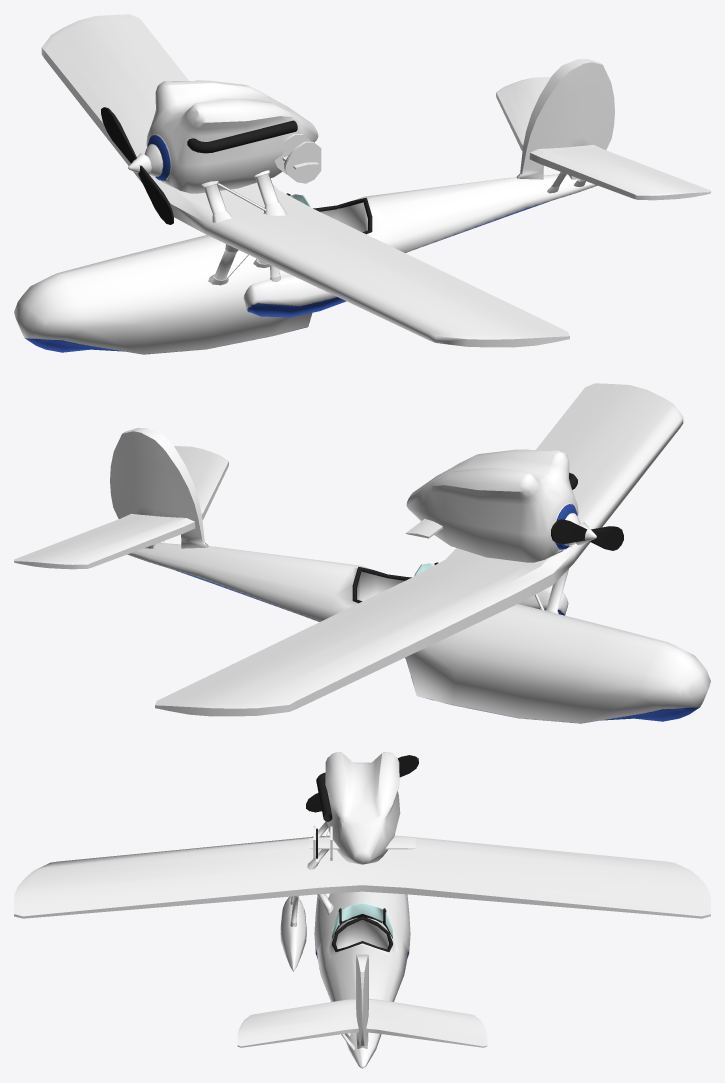
3 views of the same model, one above another, from view 1: azimuth 30°, elevation 25°; view 2: azimuth 150°, elevation 25°; view 3: azimuth 270°, elevation 25° (orthographic). The views are drawn at different scales.
Visible parts, largest first — view 1: plane2_wingwing, plane2_bodybody, plane2_pCube34engine, plane2_wingpolySurface12, plane2_small_wingwing, plane2_bodypolySurface32polySurface46, plane2_enginepCube35, plane2_enginepolySurface69, plane2_enginepolySurface78, plane2_pillarpolySurface66, plane2_pillarpolySurface62, plane2_pillarpolySurface58; view 2: plane2_wingwing, plane2_bodybody, plane2_pCube34engine, plane2_wingpolySurface12, plane2_small_wingwing, plane2_enginepCube35; view 3: plane2_wingwing, plane2_bodybody, plane2_small_wingwing, plane2_pCube34engine, plane2_bodypolySurface32polySurface46, plane2_wingpolySurface12, plane2_bodywindow, plane2_engineengine_wing, plane2_enginepCube35.
Part boxes in pixels (bbox=[...]): plane2_wingwing: bbox=[41, 14, 569, 347]; plane2_bodybody: bbox=[14, 174, 597, 354]; plane2_pCube34engine: bbox=[128, 80, 318, 193]; plane2_wingpolySurface12: bbox=[516, 58, 614, 179]; plane2_small_wingwing: bbox=[496, 77, 710, 200]; plane2_bodypolySurface32polySurface46: bbox=[243, 274, 346, 317]; plane2_enginepCube35: bbox=[101, 107, 173, 224]; plane2_enginepolySurface69: bbox=[275, 133, 321, 183]; plane2_enginepolySurface78: bbox=[187, 120, 297, 153]; plane2_pillarpolySurface66: bbox=[253, 170, 286, 215]; plane2_pillarpolySurface62: bbox=[198, 181, 232, 222]; plane2_pillarpolySurface58: bbox=[208, 244, 238, 285]; plane2_wingwing: bbox=[155, 383, 683, 716]; plane2_bodybody: bbox=[127, 543, 710, 723]; plane2_pCube34engine: bbox=[406, 449, 596, 562]; plane2_wingpolySurface12: bbox=[110, 427, 208, 548]; plane2_small_wingwing: bbox=[14, 446, 228, 569]; plane2_enginepCube35: bbox=[551, 519, 623, 550]; plane2_wingwing: bbox=[14, 835, 710, 918]; plane2_bodybody: bbox=[314, 891, 410, 1068]; plane2_small_wingwing: bbox=[237, 998, 487, 1047]; plane2_pCube34engine: bbox=[325, 752, 400, 864]; plane2_bodypolySurface32polySurface46: bbox=[280, 896, 306, 971]; plane2_wingpolySurface12: bbox=[356, 954, 368, 1048]; plane2_bodywindow: bbox=[332, 902, 392, 938]; plane2_engineengine_wing: bbox=[309, 837, 415, 849]; plane2_enginepCube35: bbox=[306, 755, 418, 812].
Bounding box in the file's own units: 23.28 × 8.82 × 28.8.
